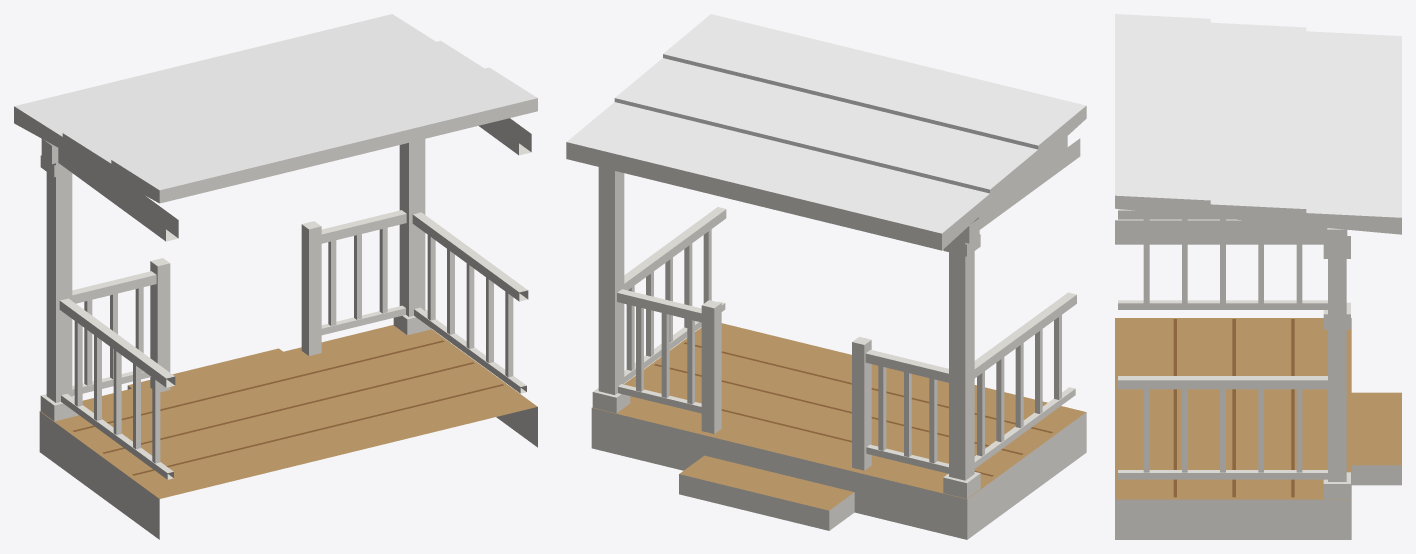
File: house_porch.glb
The picture shows the model from 3 angles, left to right: view 1: azimuth 30°, elevation 25°; view 2: azimuth 150°, elevation 25°; view 3: azimuth 270°, elevation 25°; orthographic projection.
Parts seen in each view (by area): view 1: house_porch__mesh; view 2: house_porch__mesh; view 3: house_porch__mesh.
Part boxes in pixels (x1,y1,x2,y2): house_porch__mesh: (14, 14, 537, 539); house_porch__mesh: (566, 14, 1086, 539); house_porch__mesh: (1115, 14, 1401, 539).
Bounding box in the file's own units: 3 × 2.65 × 2.
1 material, 1 textured.
